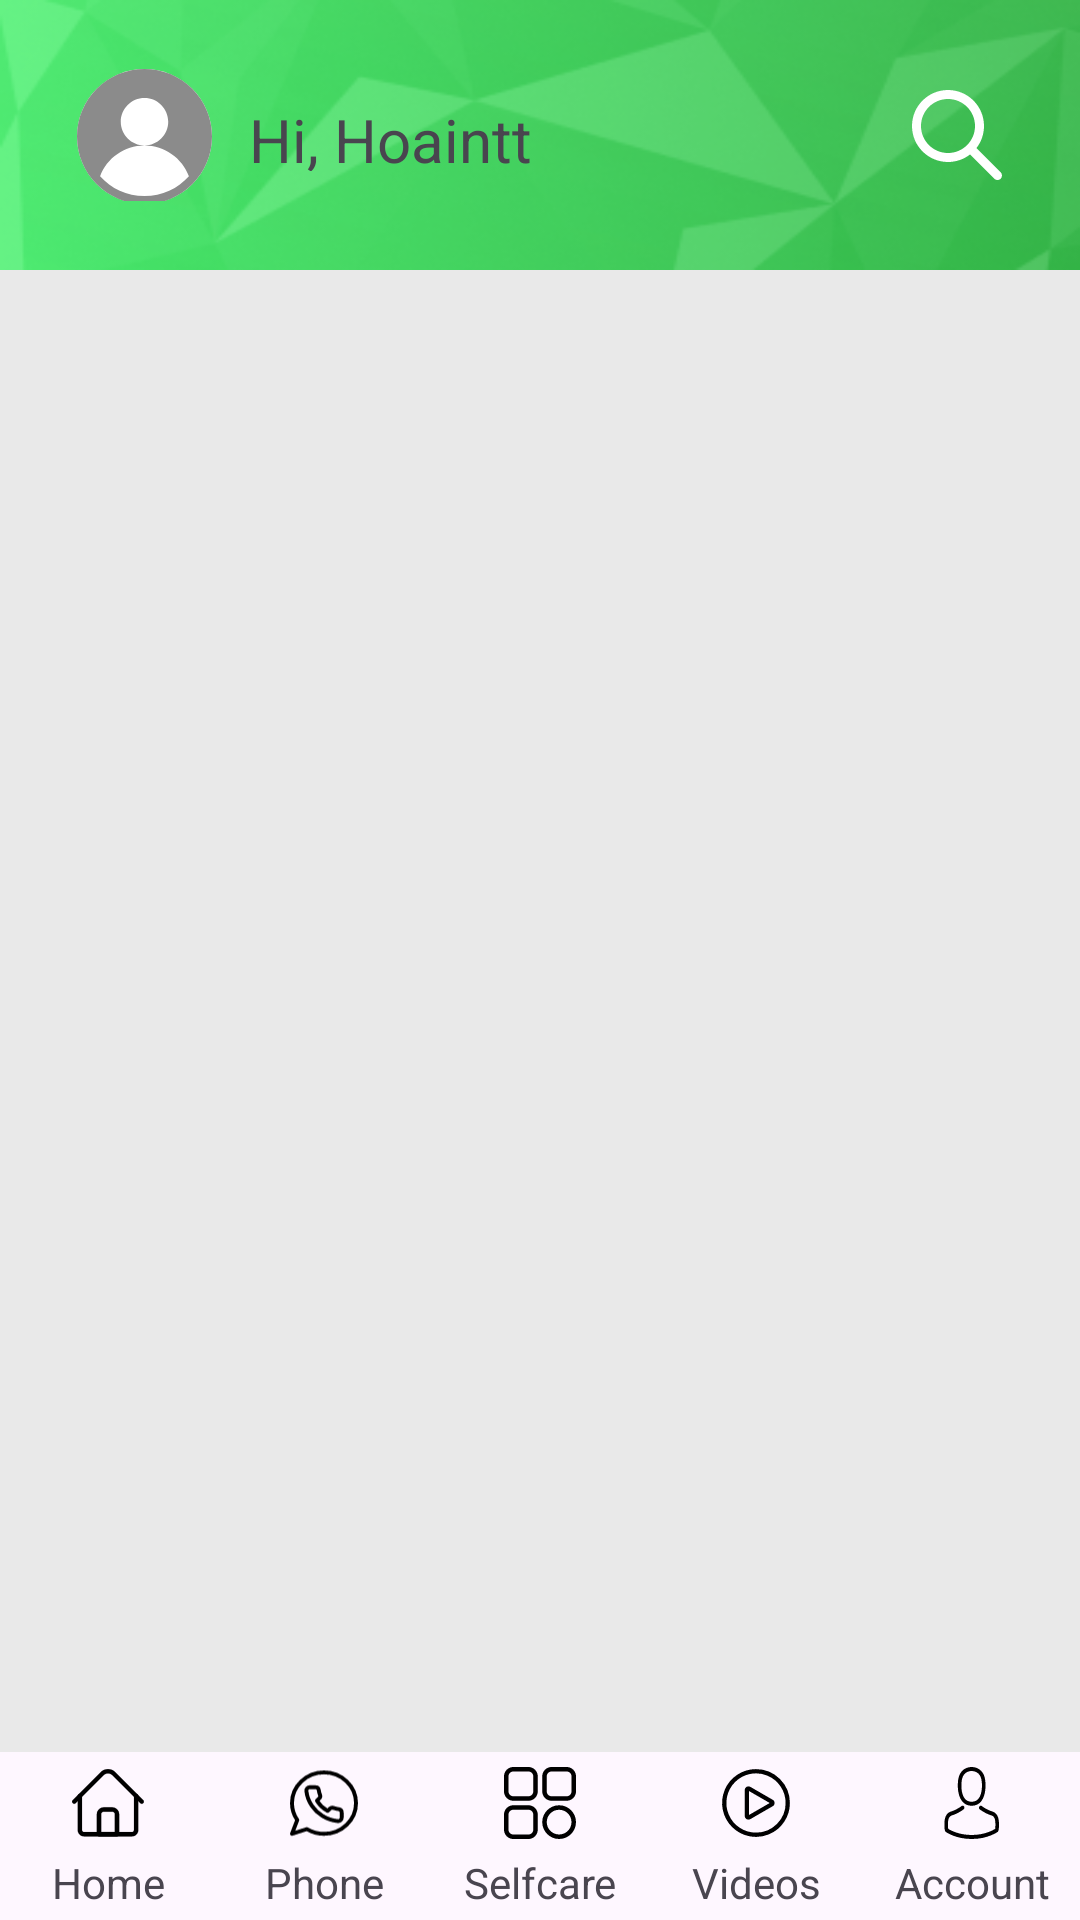

Icon bounding boxes for this 1080px x 1920px phone screenshot, format (x1,y1,x2,y2):
search: (912,90,1002,180)
